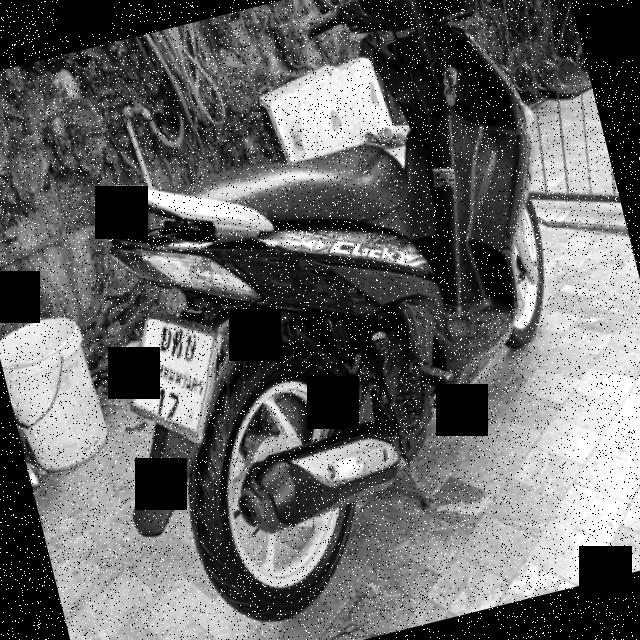letters: (148, 382, 170, 419), (164, 388, 184, 423), (153, 323, 174, 352), (183, 332, 200, 364), (172, 329, 185, 358)
license-plate: (132, 319, 214, 435)
province: (139, 354, 206, 398)
